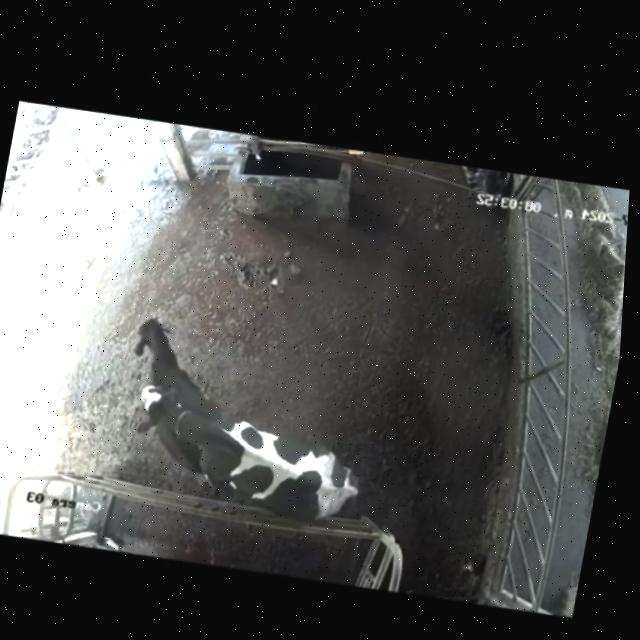ride: (99, 379, 392, 529)
stand: (95, 285, 270, 422)
